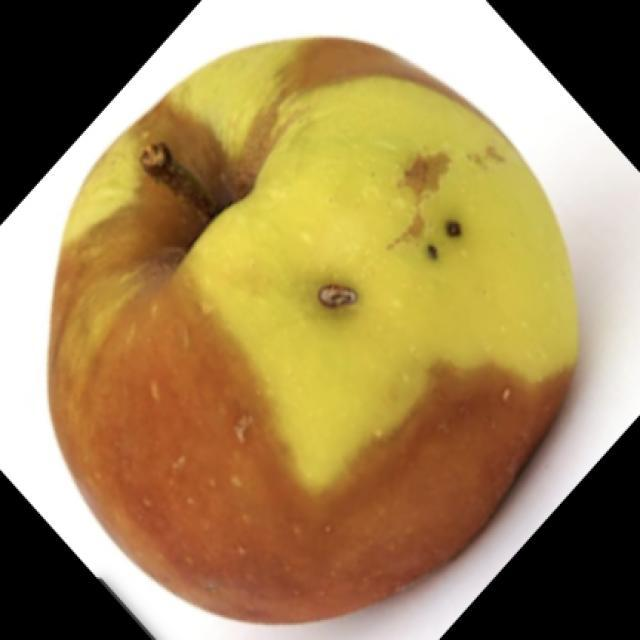Rotten: (48, 41, 559, 640)
